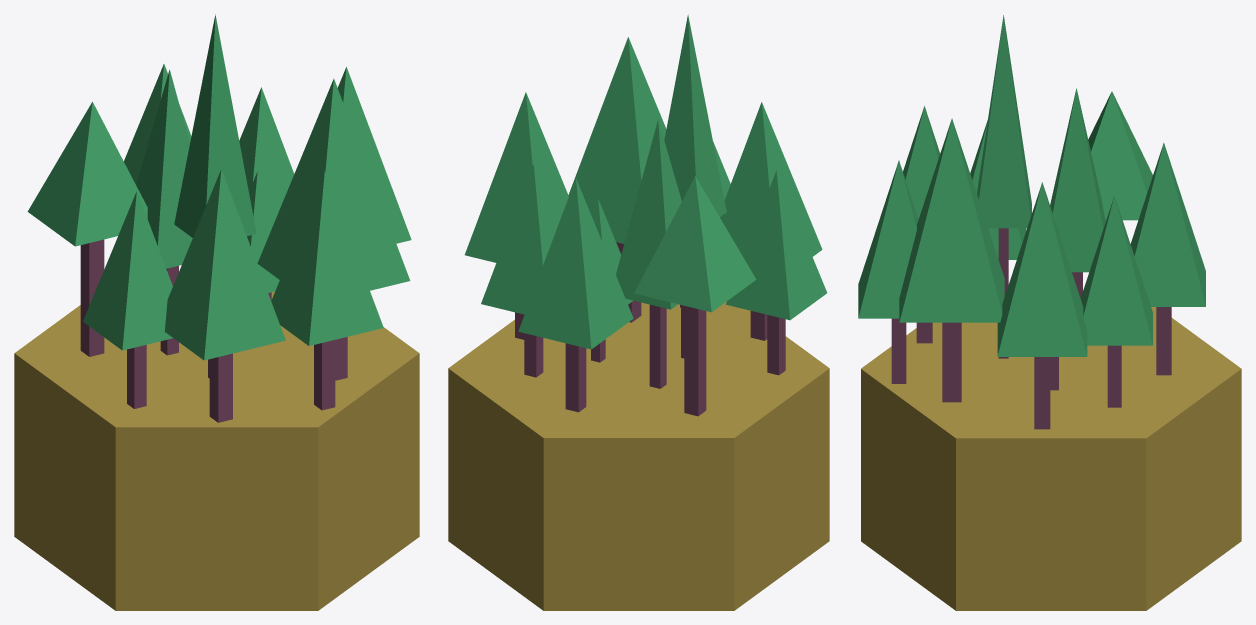
The model's file is Tile_Grass_Woods_01.gltf.
3 views of the same model, side by side, from view 1: azimuth 30°, elevation 25°; view 2: azimuth 150°, elevation 25°; view 3: azimuth 270°, elevation 25° (orthographic). The views are drawn at different scales.
Visible parts, largest first — view 1: Tile_Grass_Woods_01, decorator_natural_pineForest; view 2: Tile_Grass_Woods_01, decorator_natural_pineForest; view 3: Tile_Grass_Woods_01, decorator_natural_pineForest.
Boxes of the visible parts, bbox=[...] form: Tile_Grass_Woods_01: bbox=[14, 291, 419, 610]; decorator_natural_pineForest: bbox=[27, 14, 411, 422]; Tile_Grass_Woods_01: bbox=[448, 301, 829, 610]; decorator_natural_pineForest: bbox=[464, 14, 827, 416]; Tile_Grass_Woods_01: bbox=[861, 307, 1241, 610]; decorator_natural_pineForest: bbox=[858, 15, 1205, 429].
Bounding box in the file's own units: 1.81 × 2.98 × 2.01.
2 materials, 2 textured.
